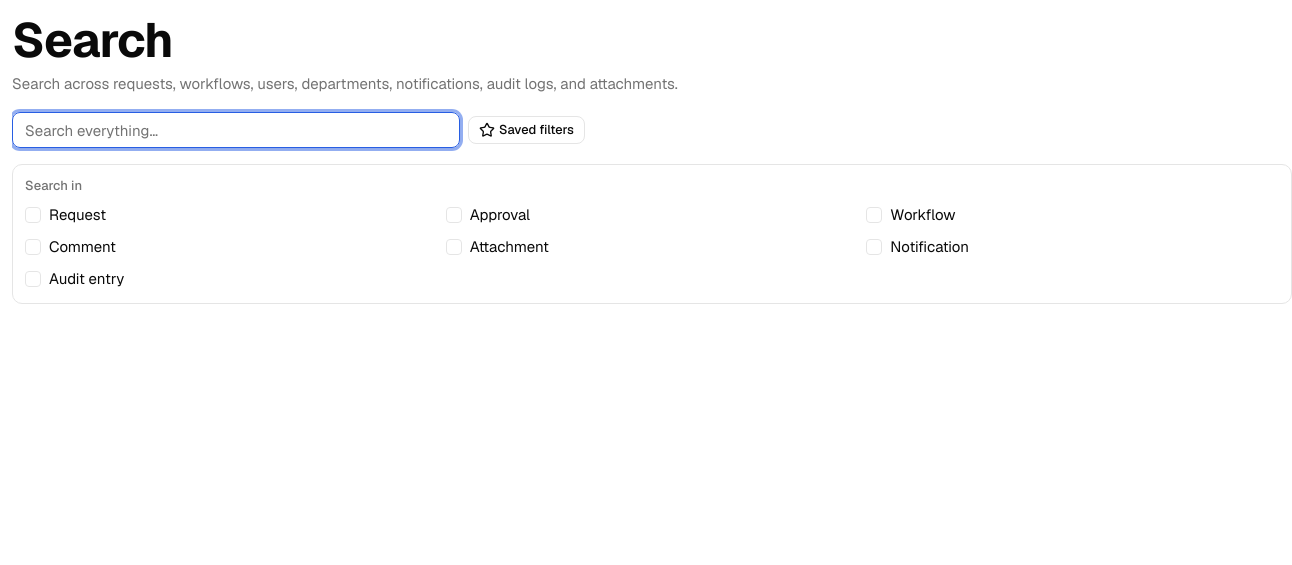
Scenario: SearchPage › shows an empty state when a search returns nothing
Type "zzz" into the field labelled "Search" at [236, 130], box [12,112,460,148]
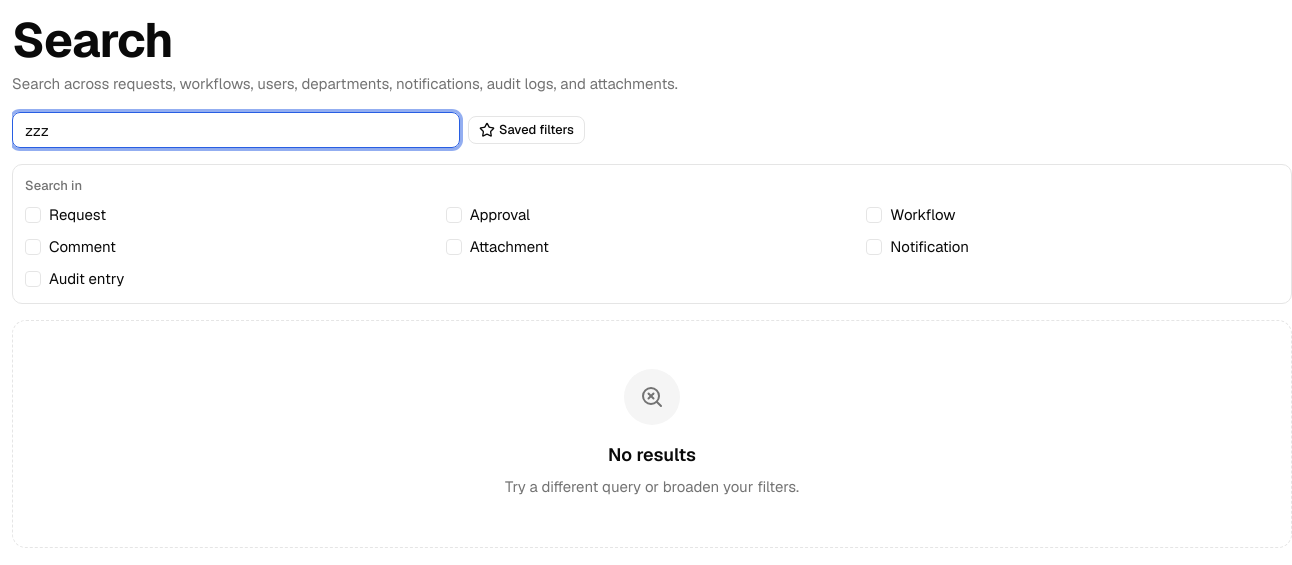
Expected: the text "No results" is shown, [608,443,696,466]
